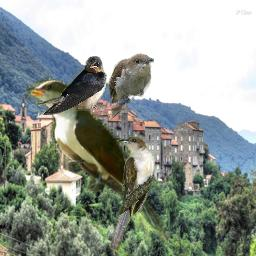Cuckoo: (26, 76, 171, 242), (110, 136, 156, 251), (107, 53, 154, 120)
Swallow: (34, 56, 107, 115)
